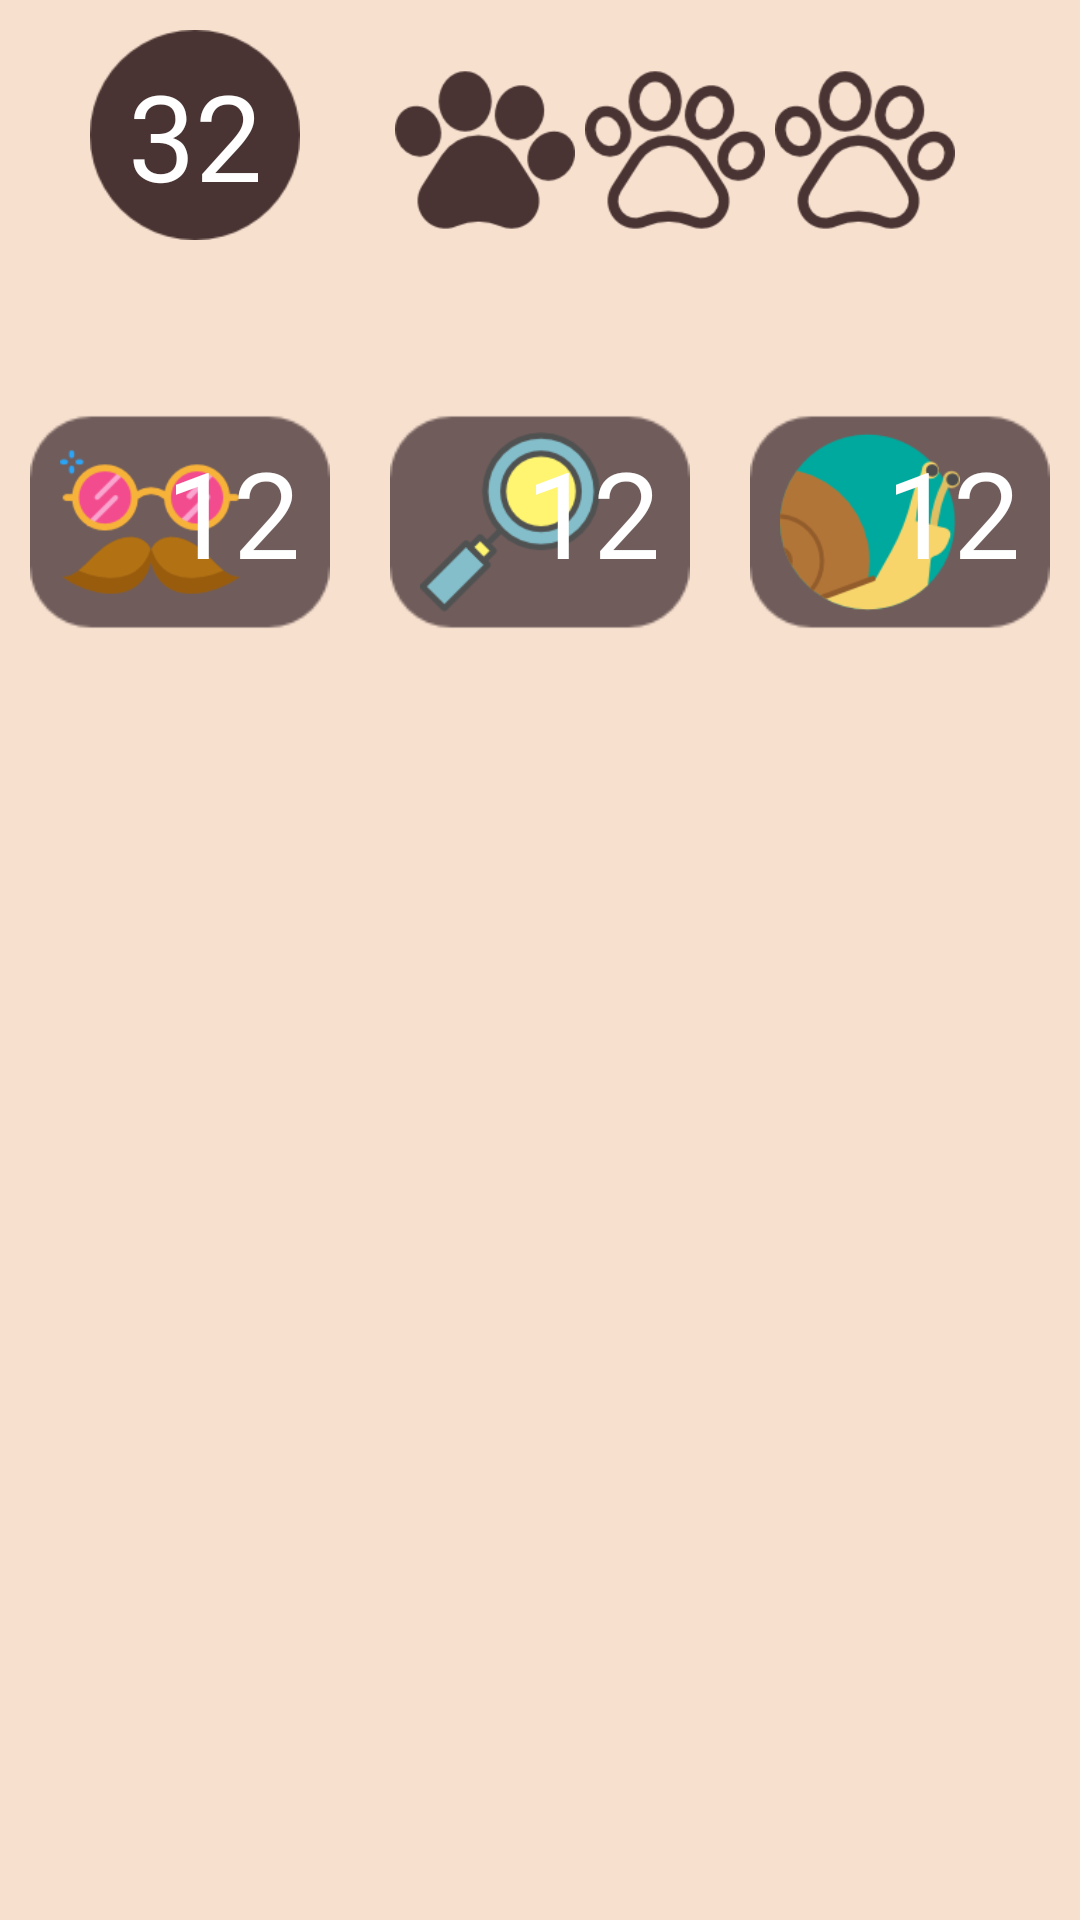

Icons on this 1080*1920 Android screen, each with the point to tap as [x,y]:
browncircle: [195,135]
